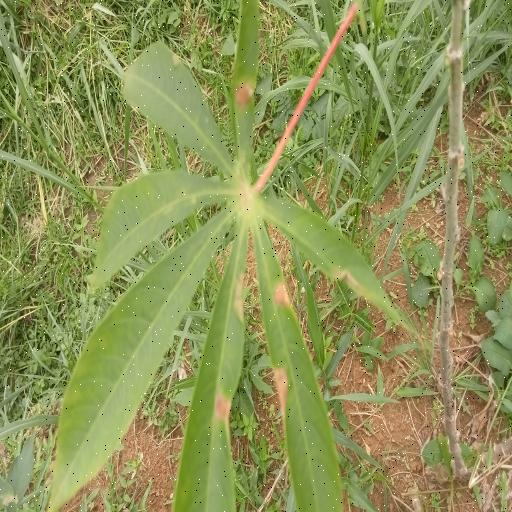Cassava_Brown_Leaf_Spot: (49, 0, 426, 512)
